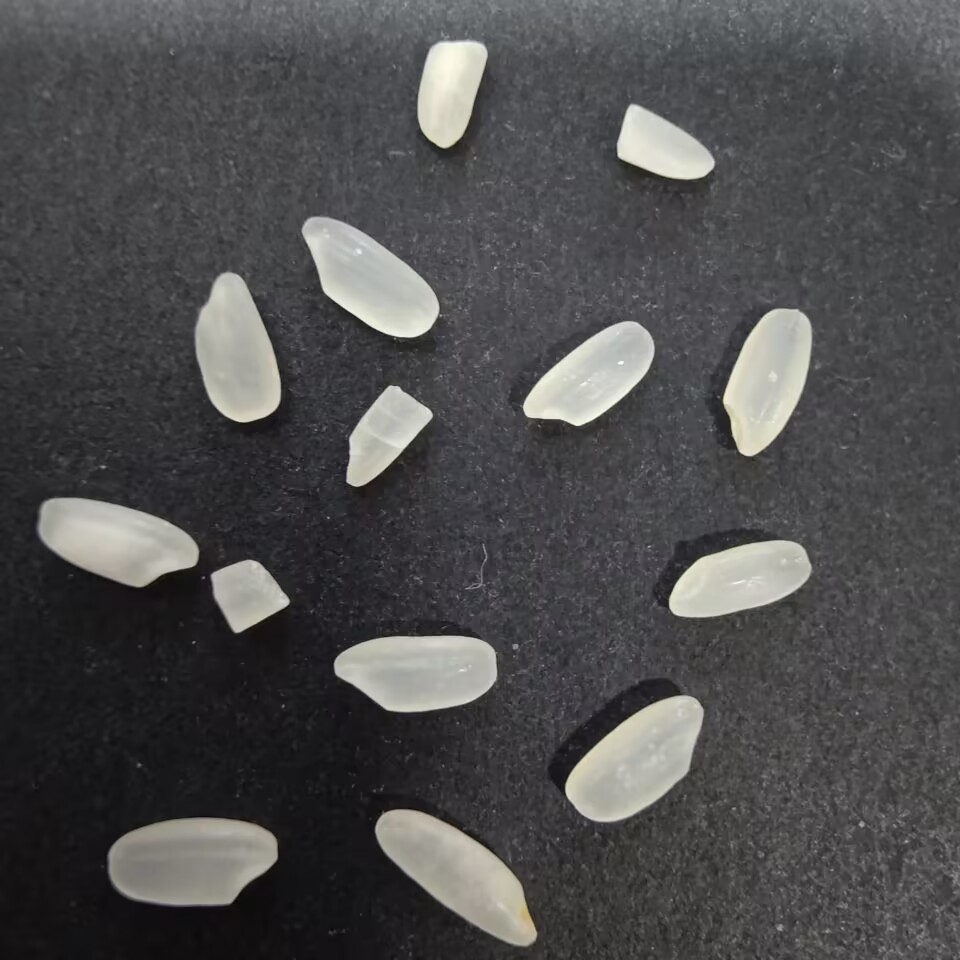broken: (334, 381, 436, 495), (609, 99, 721, 188), (412, 35, 491, 154), (202, 554, 292, 640)
rice: (370, 806, 546, 951), (562, 690, 705, 826), (299, 214, 447, 343), (101, 814, 281, 909), (32, 495, 205, 593), (520, 316, 659, 429), (189, 263, 282, 426), (720, 303, 815, 461), (327, 631, 502, 714), (664, 534, 821, 620)
